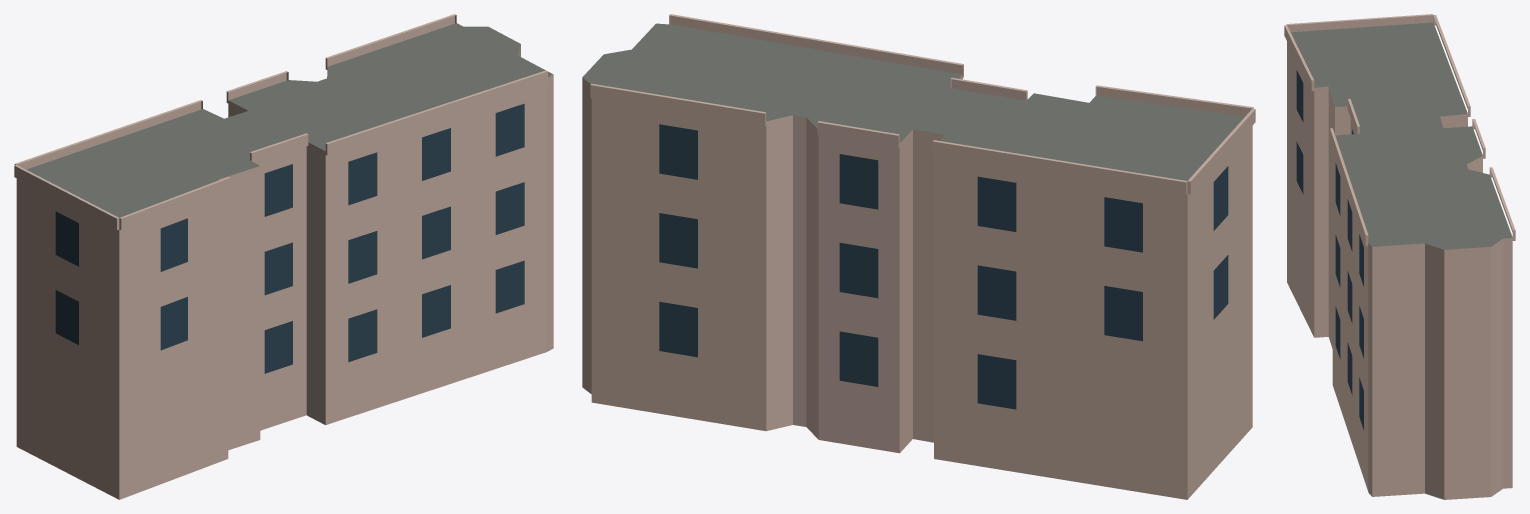
3 views of the same model, side by side, from view 1: azimuth 30°, elevation 25°; view 2: azimuth 150°, elevation 25°; view 3: azimuth 270°, elevation 25° (orthographic). The views are drawn at different scales.
Parts seen in each view (by area): view 1: Footprint 0 / surface 2, Footprint 0 / surface 1, Inset glazing, Facade bay volumes; view 2: Footprint 0 / surface 2, Footprint 0 / surface 1, Inset glazing, Facade bay volumes; view 3: Footprint 0 / surface 2, Footprint 0 / surface 1, Facade bay volumes, Inset glazing.
Part boxes in pixels (x1,y1,x2,y2): Footprint 0 / surface 2: (16, 44, 553, 499); Footprint 0 / surface 1: (26, 23, 553, 217); Inset glazing: (55, 103, 524, 373); Facade bay volumes: (14, 14, 547, 230); Footprint 0 / surface 2: (582, 75, 1252, 499); Footprint 0 / surface 1: (582, 23, 1244, 180); Inset glazing: (659, 124, 1228, 409); Facade bay volumes: (590, 14, 1255, 195); Footprint 0 / surface 2: (1287, 42, 1512, 499); Footprint 0 / surface 1: (1291, 22, 1512, 249); Facade bay volumes: (1284, 14, 1515, 245); Inset glazing: (1296, 70, 1363, 429).
Size of the model in its own units: 23.37 by 12.28 by 9.99.
